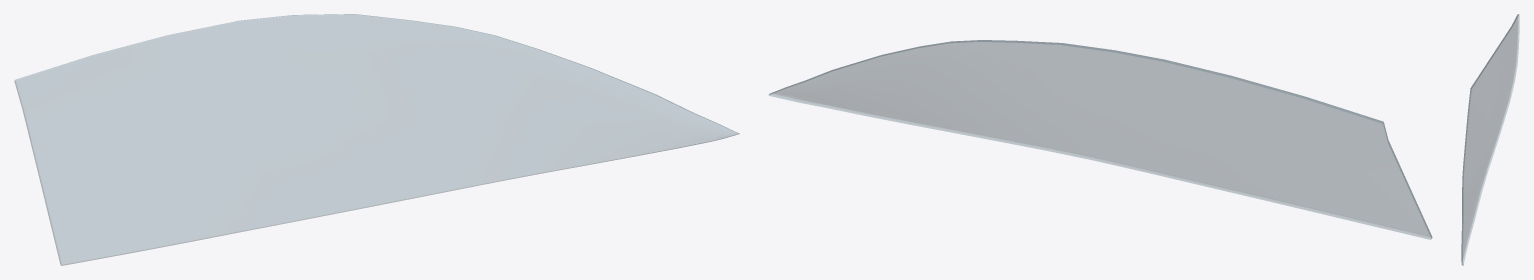
The picture shows the model from 3 angles, left to right: view 1: azimuth 30°, elevation 25°; view 2: azimuth 150°, elevation 25°; view 3: azimuth 270°, elevation 25°; orthographic projection. The views are drawn at different scales.
Visible parts, largest first — view 1: SM_MercedesCCC_Door_FR_Glass_Ext1; view 2: SM_MercedesCCC_Door_FR_Glass_Ext1; view 3: SM_MercedesCCC_Door_FR_Glass_Ext1.
Boxes of the visible parts, box(x1,y1,x2,y2) form: SM_MercedesCCC_Door_FR_Glass_Ext1: box(14, 14, 739, 265); SM_MercedesCCC_Door_FR_Glass_Ext1: box(769, 40, 1432, 239); SM_MercedesCCC_Door_FR_Glass_Ext1: box(1461, 14, 1519, 265).
Size of the model in its own units: 1.18 by 0.3109 by 0.1772.
